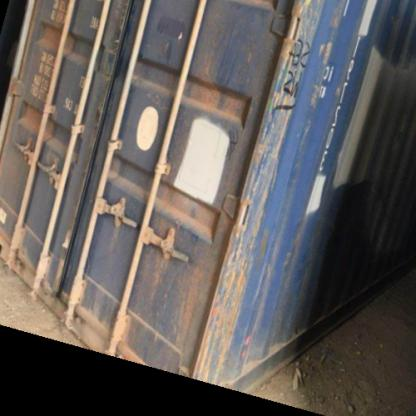Damage: (206, 258, 254, 383), (154, 179, 224, 240), (185, 71, 256, 125), (275, 21, 308, 113), (284, 214, 302, 277)
